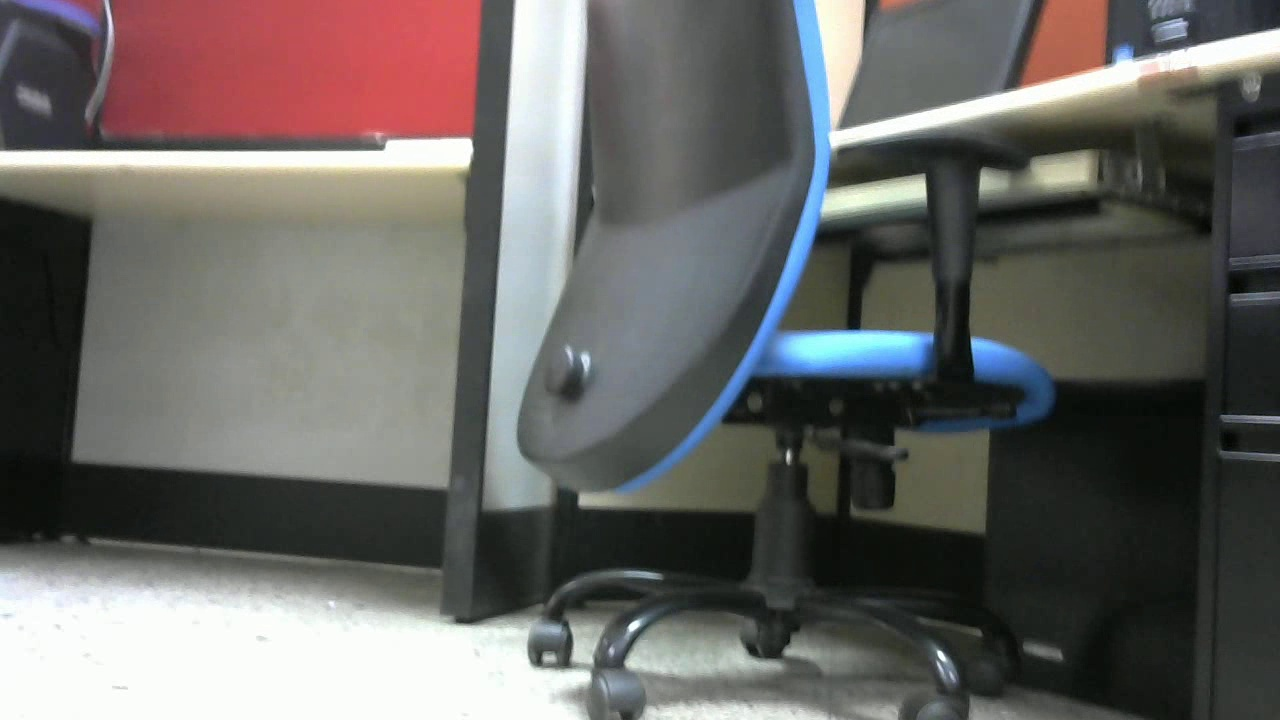chair: (515, 2, 1055, 720)
